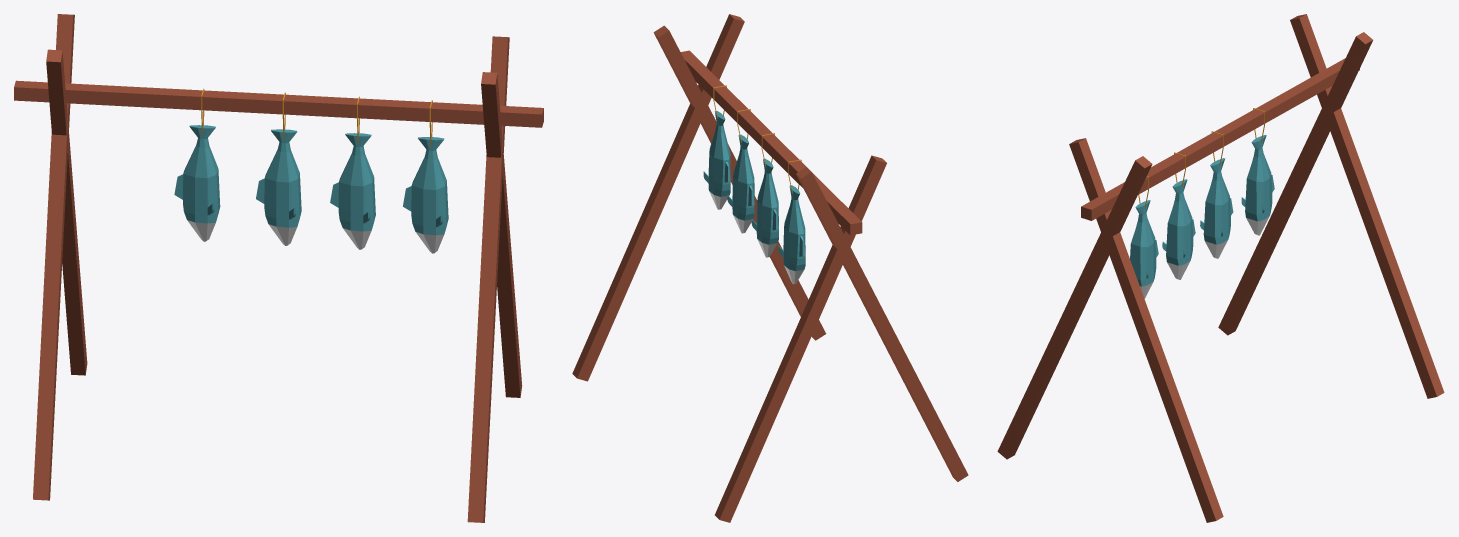
File: Fishing rack.glb
The picture shows the model from 3 angles, left to right: view 1: azimuth 30°, elevation 25°; view 2: azimuth 150°, elevation 25°; view 3: azimuth 270°, elevation 25°; orthographic projection. The views are drawn at different scales.
Visible parts, largest first — view 1: Stick 1.001, Fish.003; view 2: Stick 1.001, Fish.003; view 3: Stick 1.001, Fish.003.
Boxes of the visible parts, x1,y1,x2,y2 form: Stick 1.001: (14, 14, 543, 522); Fish.003: (174, 125, 448, 253); Stick 1.001: (572, 14, 968, 522); Fish.003: (703, 111, 805, 283); Stick 1.001: (997, 14, 1444, 522); Fish.003: (1130, 135, 1274, 298).
Bounding box in the file's own units: 1.53 × 1.22 × 1.46.
Materials: 4 (3 with a texture image).
